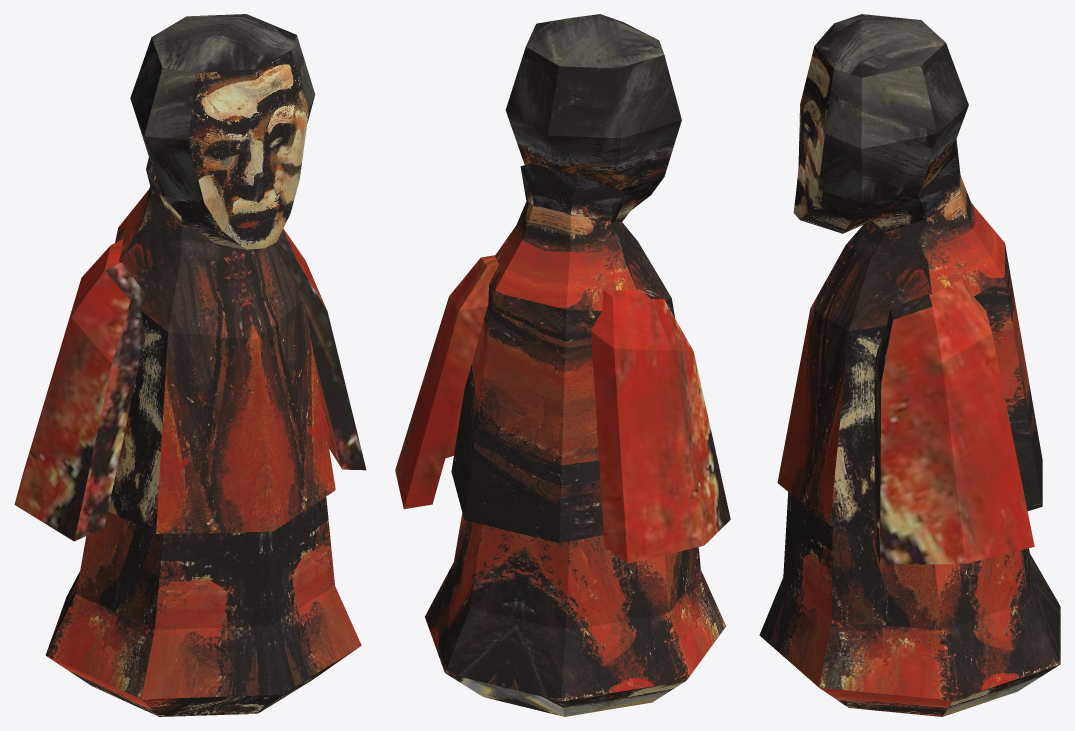
File: fse-pawn.glb
3 views of the same model, side by side, from view 1: azimuth 30°, elevation 25°; view 2: azimuth 150°, elevation 25°; view 3: azimuth 270°, elevation 25° (orthographic). The views are drawn at different scales.
Visible parts, largest first — view 1: Cylinder; view 2: Cylinder; view 3: Cylinder.
Boxes of the visible parts, x1,y1,x2,y2 form: Cylinder: (14,14,366,716); Cylinder: (395,14,730,716); Cylinder: (759,14,1060,716).
Bounding box in the file's own units: 0.9206 × 1.81 × 0.7604.
Materials: 1 (1 with a texture image).
